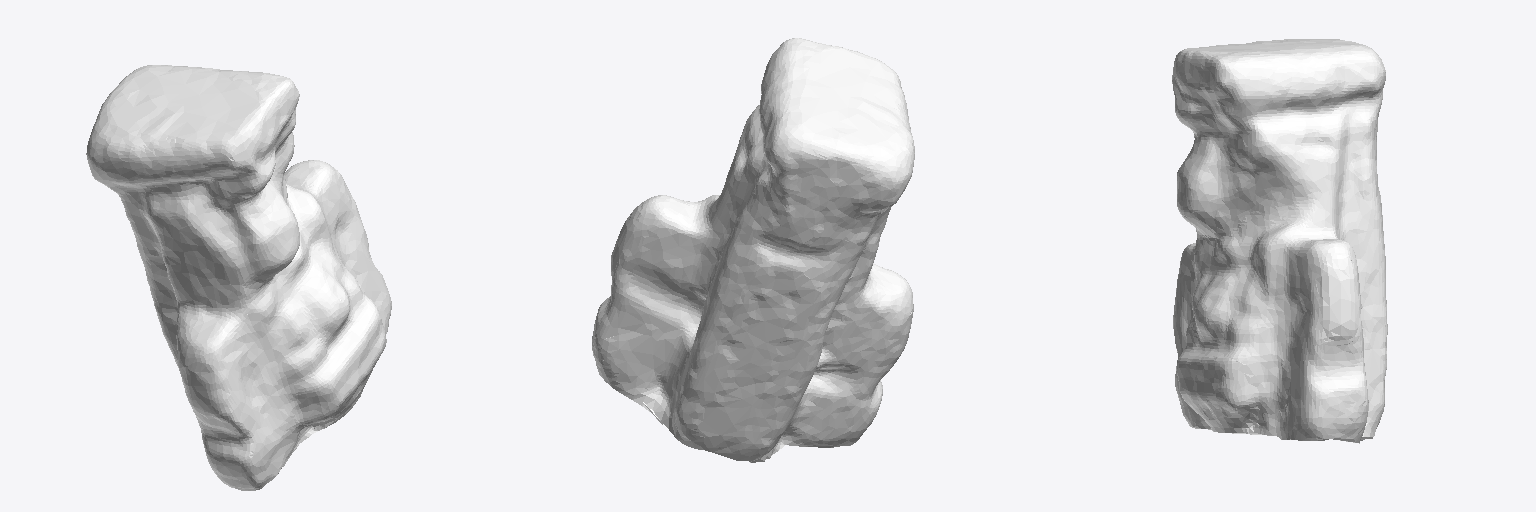
File: totem.obj
3 renders of one model, left to right at view 1: azimuth 30°, elevation 25°; view 2: azimuth 150°, elevation 25°; view 3: azimuth 270°, elevation 25°, orthographic.
Parts seen in each view (by area): view 1: Тотем_м2; view 2: Тотем_м2; view 3: Тотем_м2.
Part boxes in pixels (left/top/right/bottom): Тотем_м2: left=86, top=65, right=391, bottom=490; Тотем_м2: left=592, top=38, right=914, bottom=462; Тотем_м2: left=1172, top=39, right=1387, bottom=443.
Size of the model in its own units: 0.2682 by 0.3314 by 0.1648.